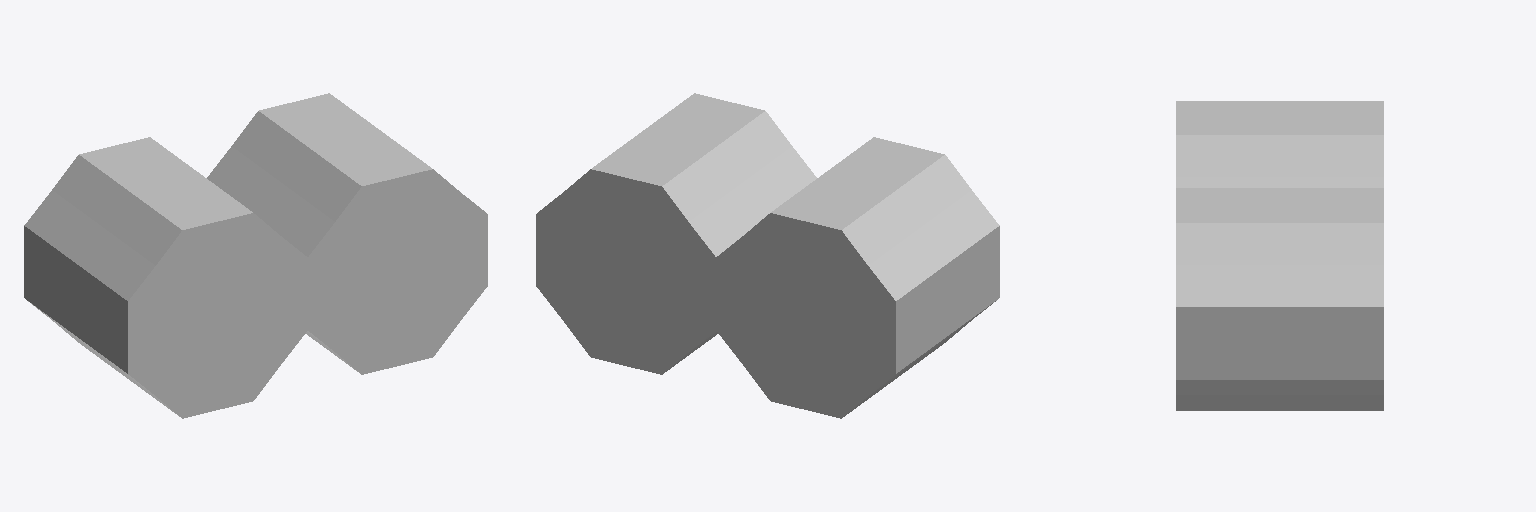
Rendered from log_pile_2.obj.
3 renders of one model, left to right at view 1: azimuth 30°, elevation 25°; view 2: azimuth 150°, elevation 25°; view 3: azimuth 270°, elevation 25°, orthographic.
Visible parts, largest first — view 1: log.001, log; view 2: log.001, log; view 3: log, log.001.
Part boxes in pixels (x1,y1,x2,y2): log.001: (24, 137, 307, 418); log: (207, 93, 487, 374); log.001: (716, 137, 999, 418); log: (536, 93, 816, 374); log: (1176, 188, 1383, 410); log.001: (1176, 101, 1383, 187).
Bounding box in the file's own units: 1 × 0.5015 × 0.5.